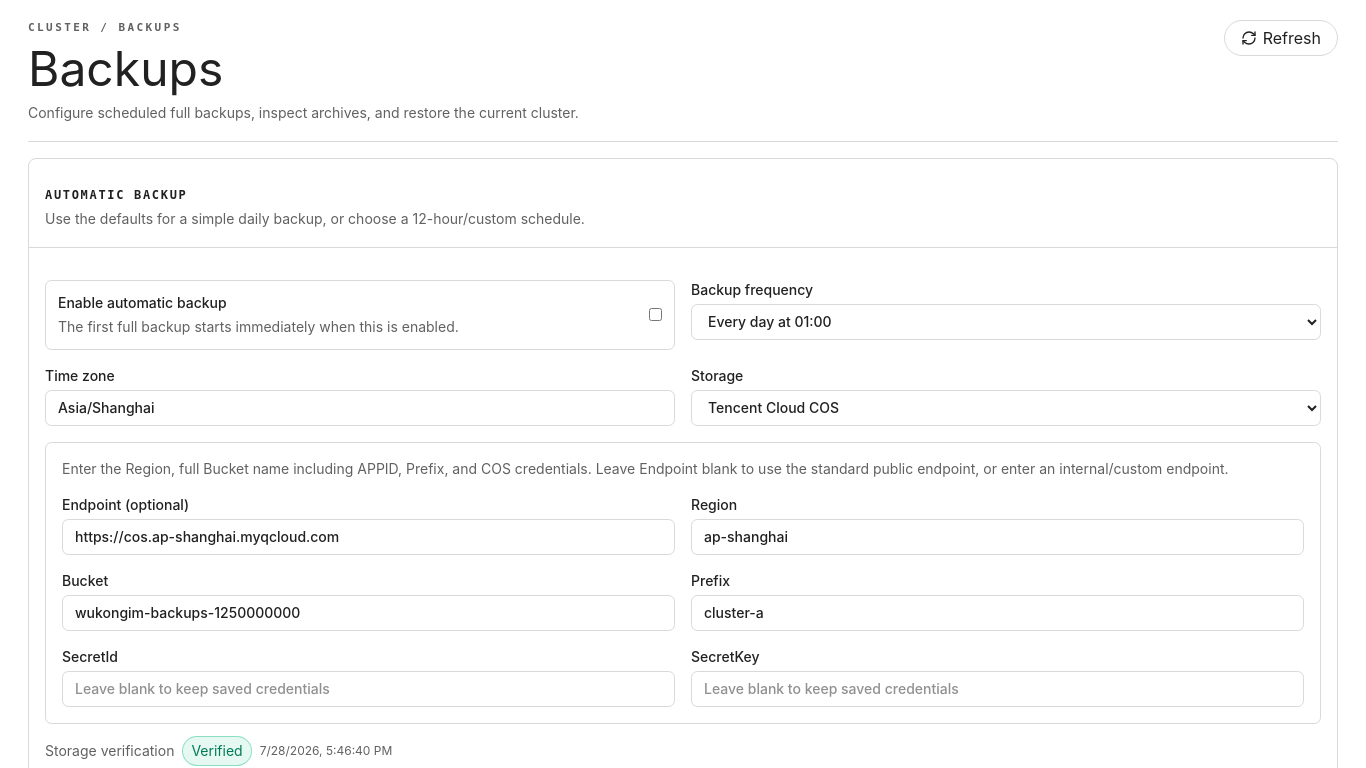
Test: treats new credentials as an unsaved repository change
In the field labelled "SecretId": [368, 688] box [62,670,675,706], type "replacement-id"
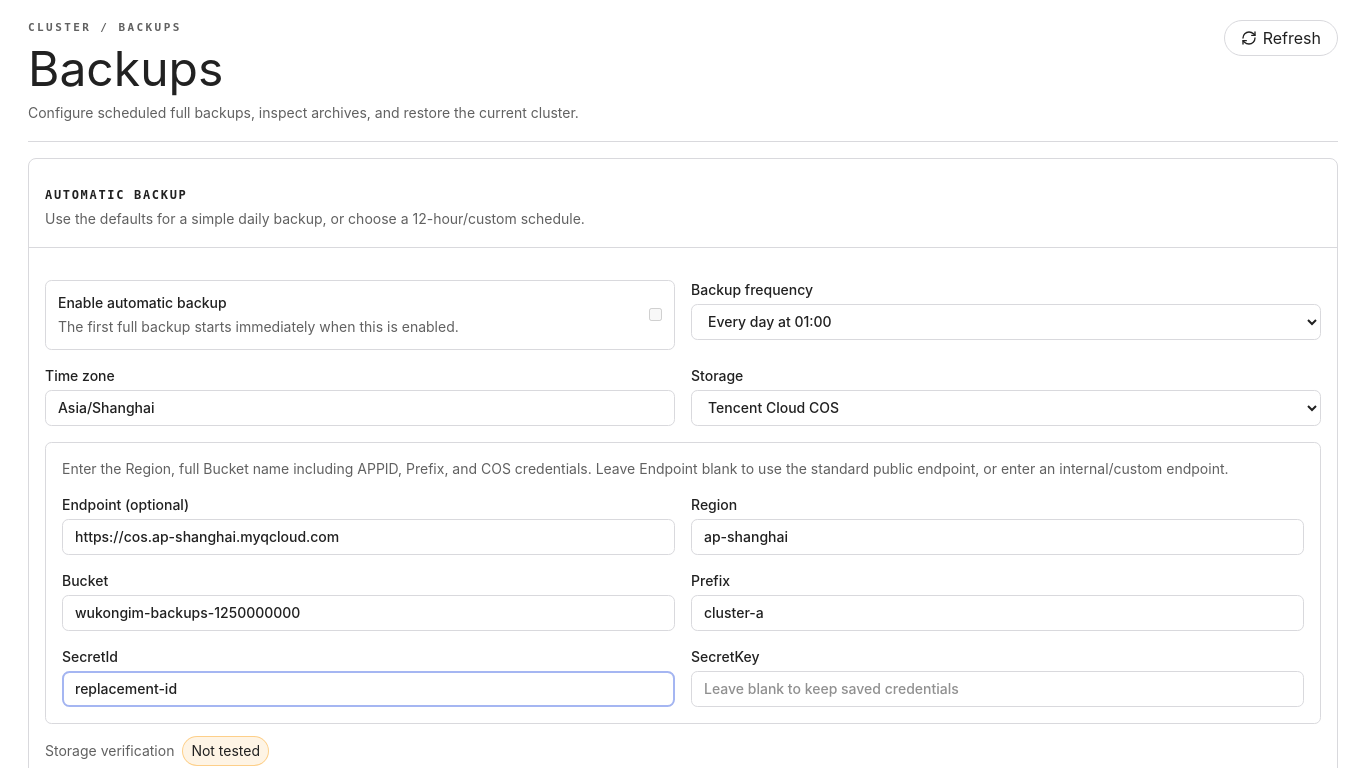
Expected: the text "Not tested" is shown, [182,736,269,766]
